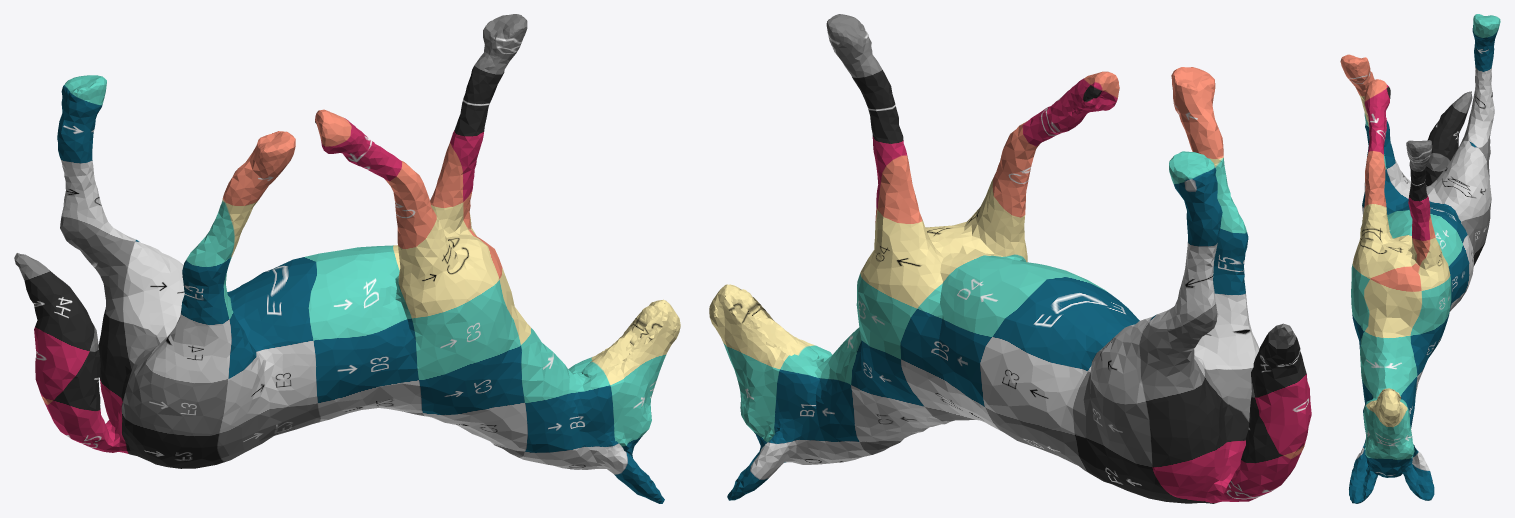
File: horse_07-horse_06.obj
The picture shows the model from 3 angles, left to right: view 1: azimuth 30°, elevation 25°; view 2: azimuth 150°, elevation 25°; view 3: azimuth 270°, elevation 25°; orthographic projection. The views are drawn at different scales.
Parts seen in each view (by area): view 1: horse_07-horse_06_export; view 2: horse_07-horse_06_export; view 3: horse_07-horse_06_export.
Boxes of the visible parts, x1,y1,x2,y2 form: horse_07-horse_06_export: (14, 14, 680, 503); horse_07-horse_06_export: (709, 14, 1311, 503); horse_07-horse_06_export: (1340, 14, 1500, 503).
Size of the model in its own units: 1.02 by 0.7688 by 0.3394.
